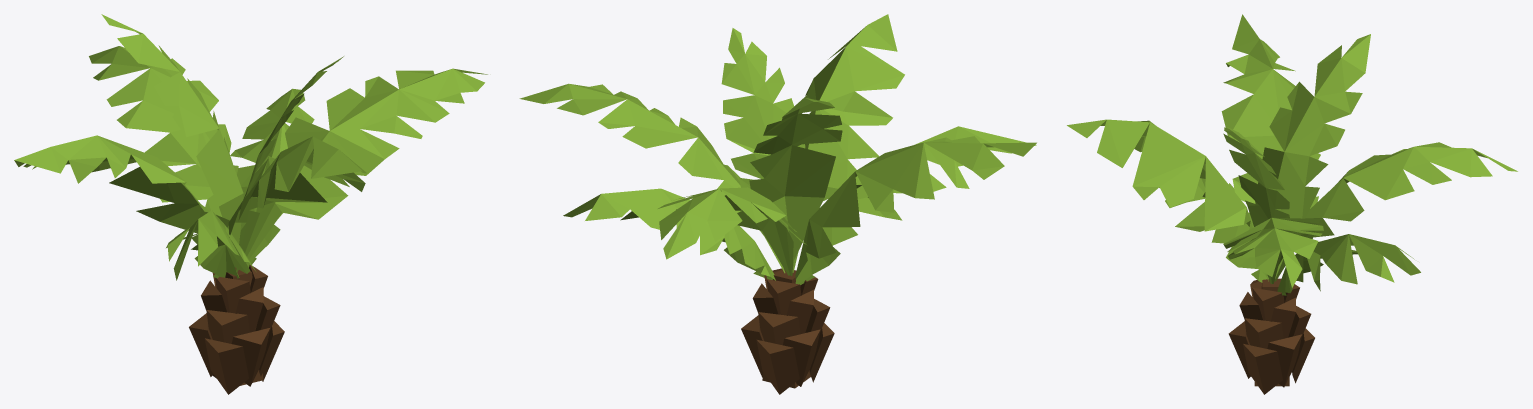
File: SM_Tree_Palm_Mature_C.fbx
3 views of the same model, side by side, from view 1: azimuth 30°, elevation 25°; view 2: azimuth 150°, elevation 25°; view 3: azimuth 270°, elevation 25° (orthographic). The views are drawn at different scales.
Visible parts, largest first — view 1: tree-palm-mature-c; view 2: tree-palm-mature-c; view 3: tree-palm-mature-c.
Boxes of the visible parts, left/top/right/bottom form: tree-palm-mature-c: left=14, top=14, right=487, bottom=394; tree-palm-mature-c: left=519, top=14, right=1036, bottom=394; tree-palm-mature-c: left=1067, top=14, right=1517, bottom=394.
Bounding box in the file's own units: 4.51 × 2.99 × 3.88.
